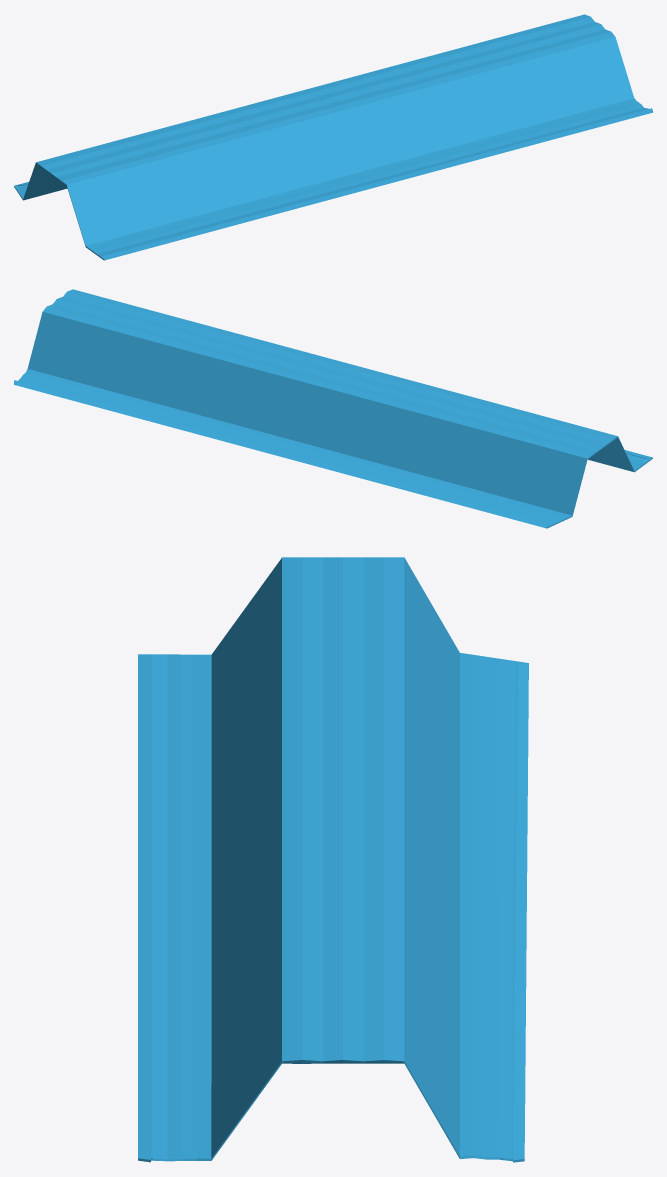
The model's file is batten.glb.
3 renders of one model, top to bottom at view 1: azimuth 30°, elevation 25°; view 2: azimuth 150°, elevation 25°; view 3: azimuth 270°, elevation 25°, orthographic. The views are drawn at different scales.
Parts seen in each view (by area): view 1: Cube; view 2: Cube; view 3: Cube.
Part boxes in pixels (x1,y1,x2,y2): Cube: (14,14,652,260); Cube: (14,289,652,528); Cube: (138,557,528,1162).
Bounding box in the file's own units: 5.92 × 0.6669 × 1.83.
